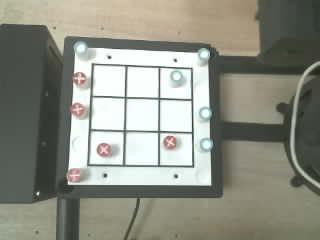blue circle: (74, 41, 87, 54), (200, 138, 213, 151), (170, 70, 183, 83), (199, 107, 211, 120), (198, 48, 209, 60)
board: (67, 42, 212, 185)
cells: (90, 131, 122, 164), (125, 132, 157, 165), (91, 98, 124, 129), (126, 99, 158, 130), (160, 134, 192, 165), (93, 65, 124, 96), (160, 100, 191, 131), (160, 68, 191, 98), (127, 67, 158, 97)
grid: (87, 64, 193, 167)
red cross: (72, 72, 87, 86), (66, 168, 80, 182), (70, 103, 85, 116), (96, 143, 111, 156), (163, 136, 176, 149)
